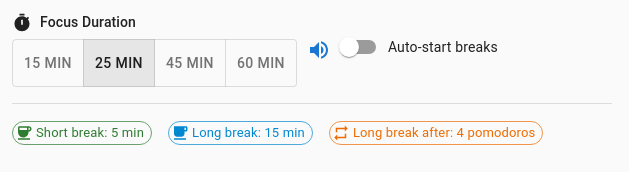
Scenario: TimerControls › Sound Toggle › should toggle sound on click
Click the button with test id "sound-toggle": (319, 50) [297,28,341,72]
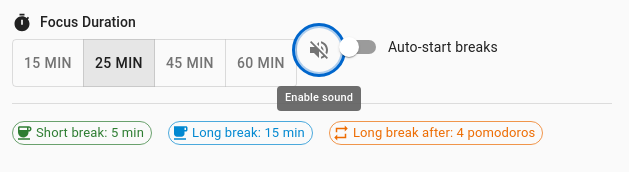
Expected: the icon with test id "VolumeOffIcon" is shown, [307,38,331,62]
